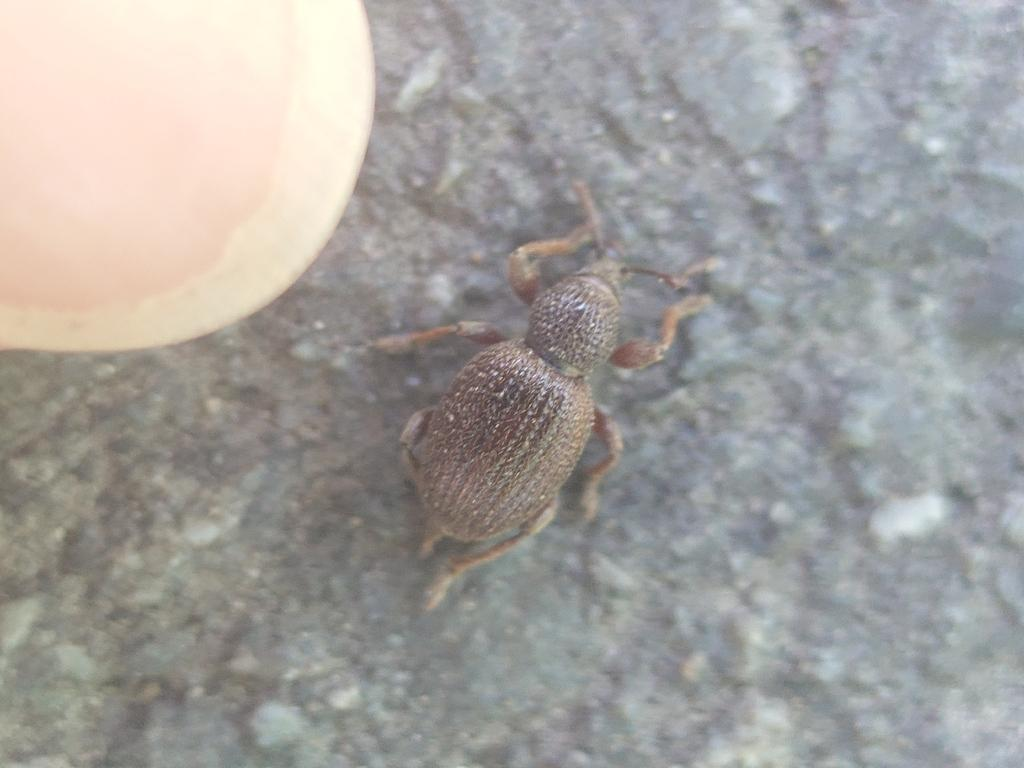weevils: (319, 150, 742, 649)
